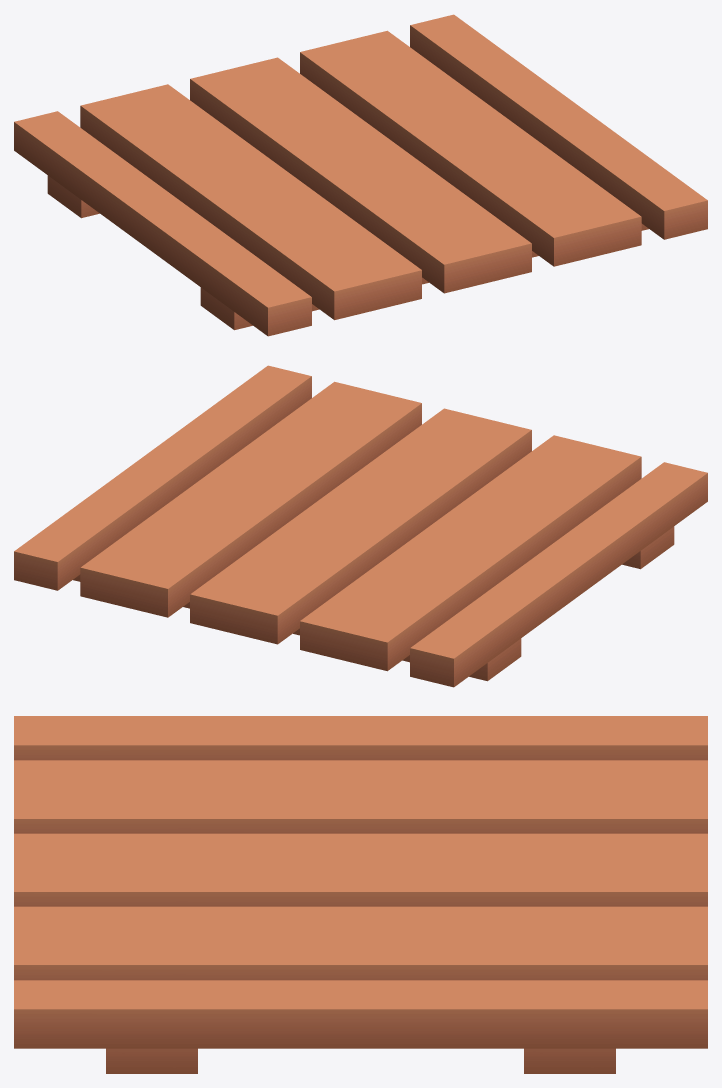
Rendered from floor.glb.
3 views of the same model, one above another, from view 1: azimuth 30°, elevation 25°; view 2: azimuth 150°, elevation 25°; view 3: azimuth 270°, elevation 25° (orthographic). The views are drawn at different scales.
Visible parts, largest first — view 1: floor; view 2: floor; view 3: floor.
Boxes of the visible parts, box(x1,y1,x2,y2) form: floor: box(14, 14, 707, 336); floor: box(14, 365, 707, 687); floor: box(14, 716, 707, 1073).
Bounding box in the file's own units: 0.5 × 0.0512 × 0.5.
1 material, 1 textured.
